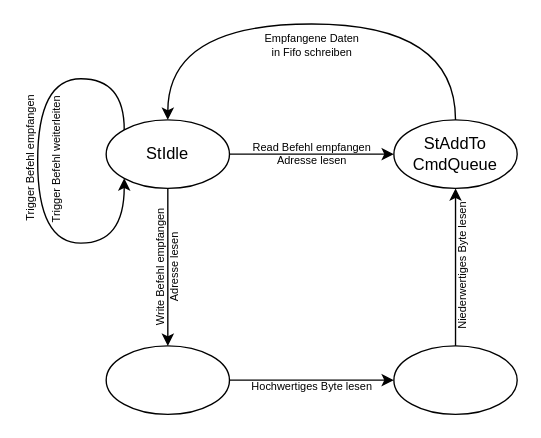
Some shapes in this 541 by 438 pixel diagram are drawn without their labels. Here are the shapes that lost their labels. From the top down, the centre of each, then its label:
At point 167,379: "StRxData1".
At point 455,379: "StRxData2".
